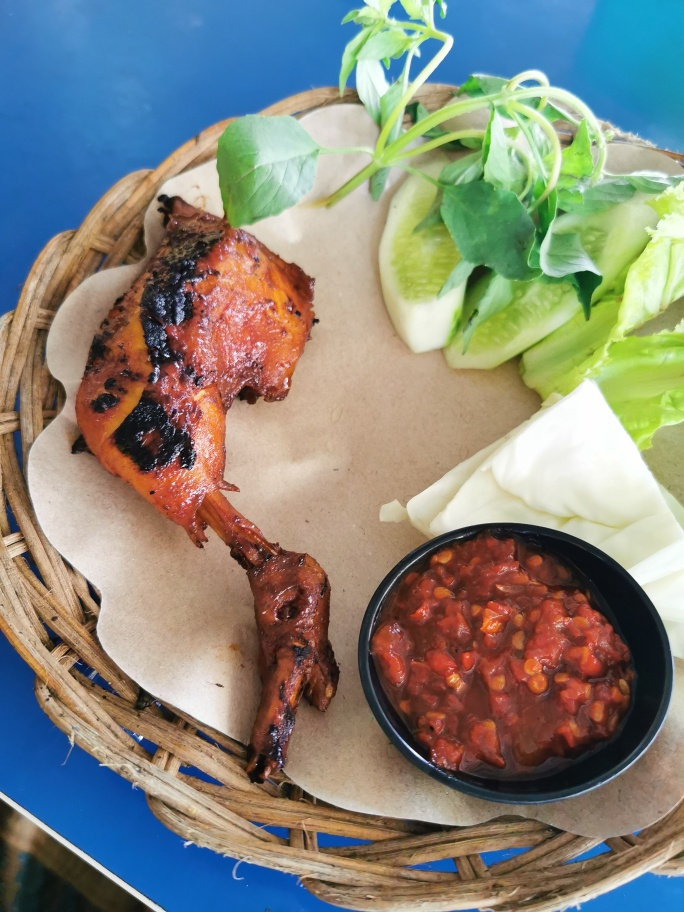ayam bakar: (61, 170, 365, 776)
